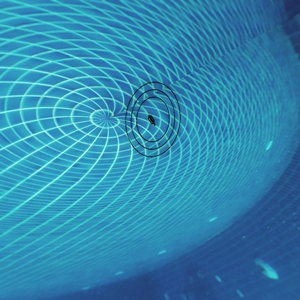circle: (105, 67, 191, 166)
submarine: (147, 114, 156, 123)
